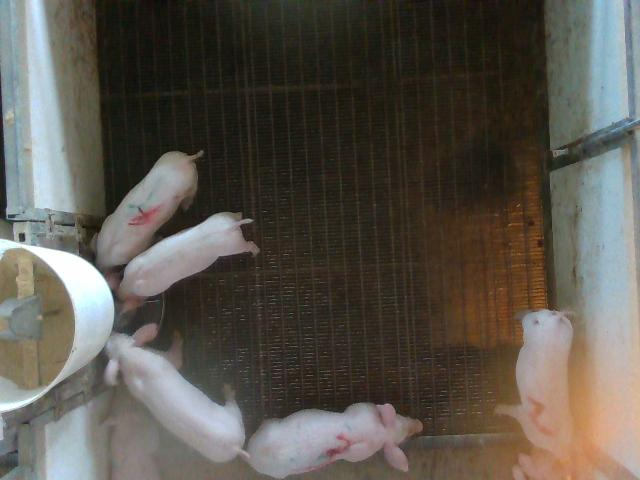pig-2: (496, 310, 572, 459)
pig-3: (248, 402, 422, 477)
pig-4: (96, 151, 204, 272)
